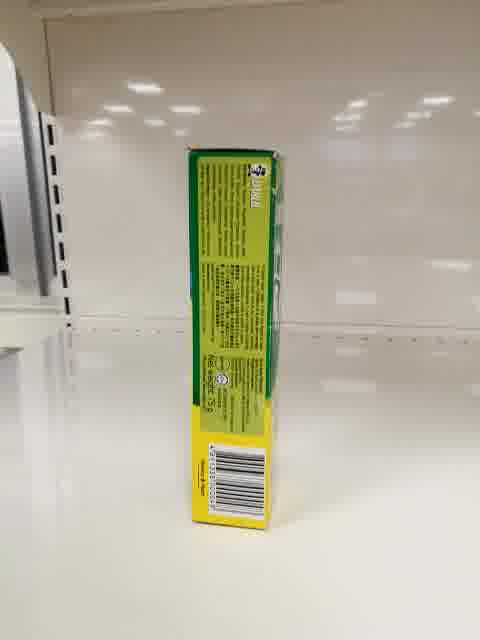toothpaste: (187, 147, 285, 531)
